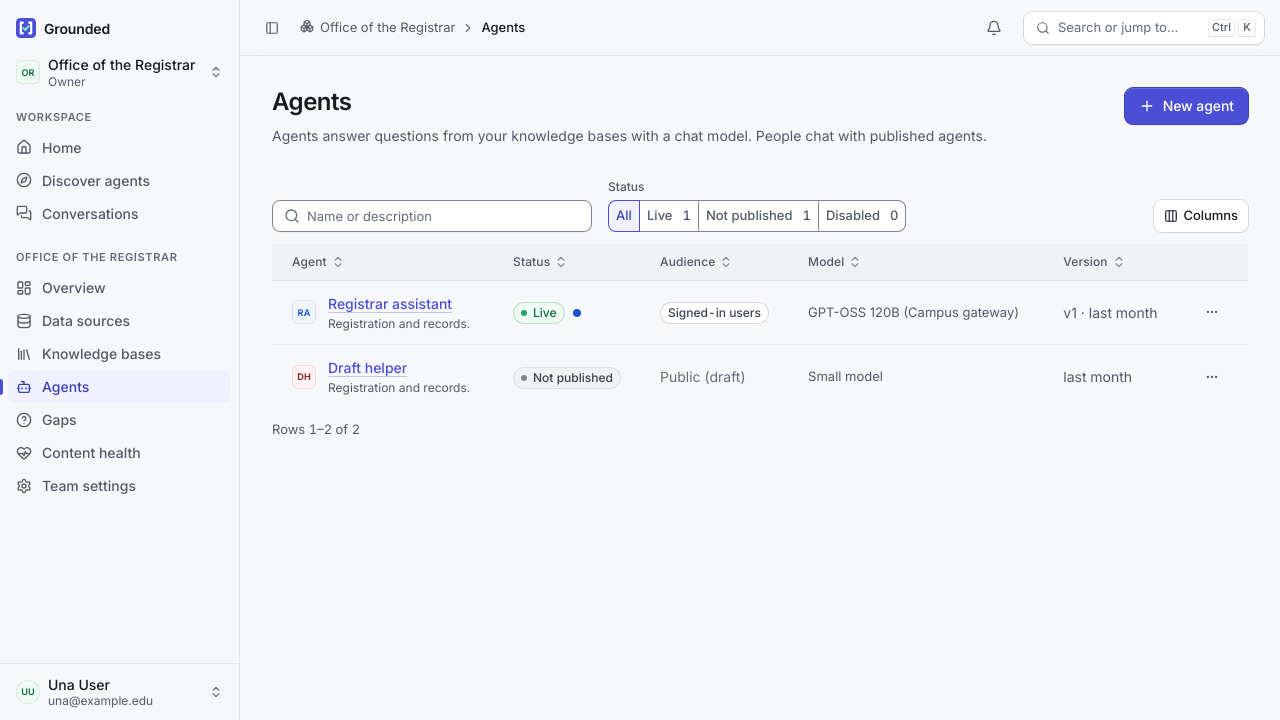
team agents list › lists agents with status, audience, unpublished changes and the model's name, filtered in the URL (W6)
Check: the link "Registrar assistant" is shown, box [328,295,452,312]
Check: the row "Registrar assistant" shows "Signed-in users", box [668,305,761,320]
// Trying an agent by hand is "Try it", as on a knowledge base ("Test" is for infrastructure).
Click the button named "Actions for": click(1212, 312) [1196,296,1228,328]
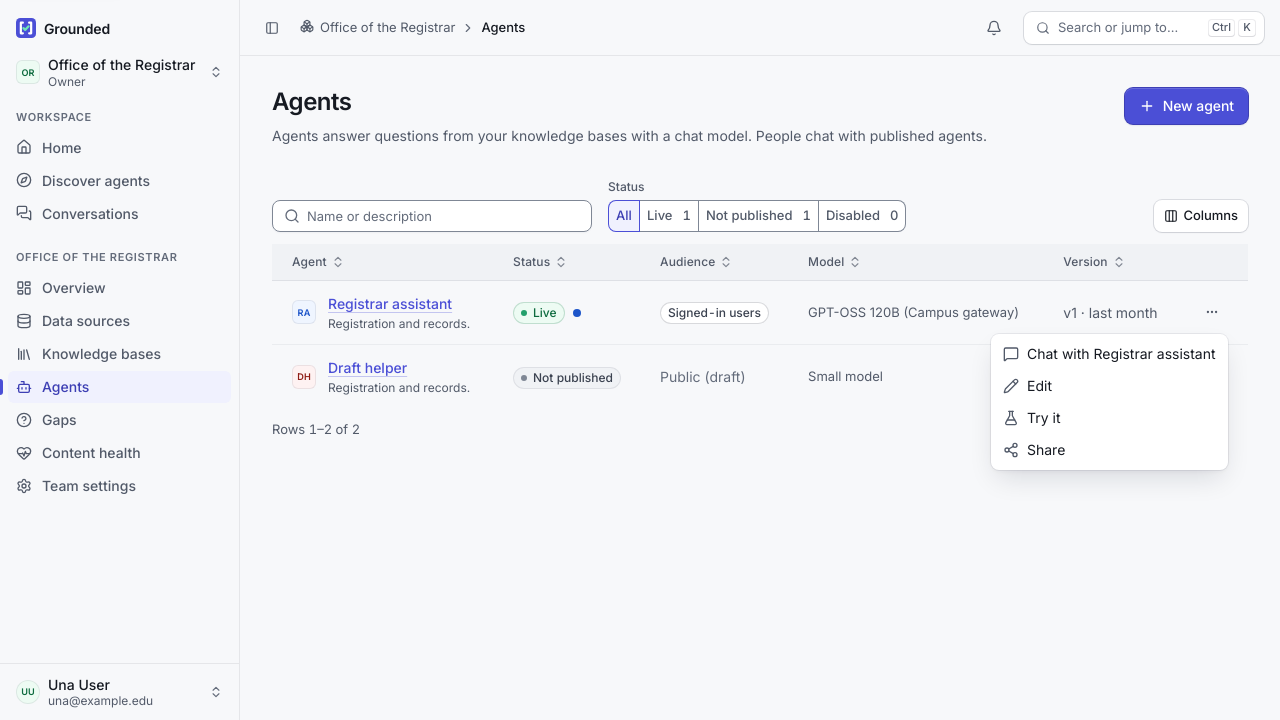
Press Escape
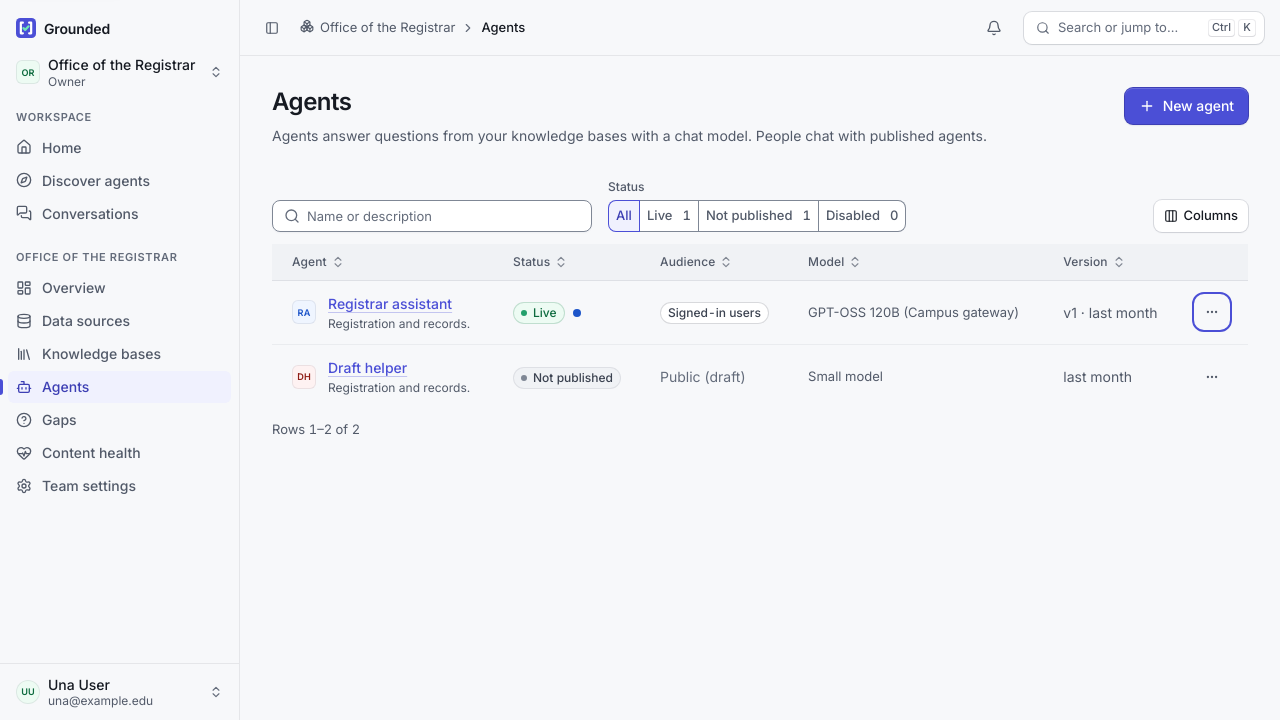
Click the button "Not published 1": click(758, 216) [698,200,819,232]
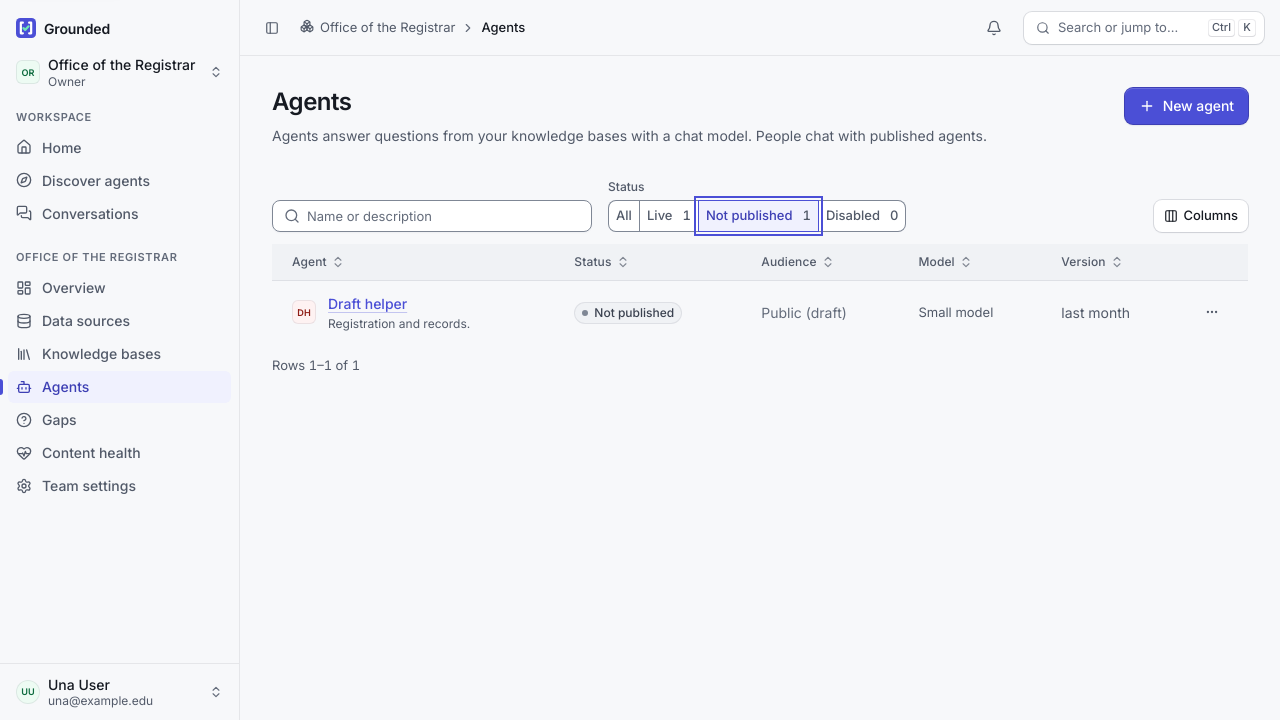
Check: the link "Draft helper" is shown, box [328,295,407,312]
Check: the link "Registrar assistant" is gone
